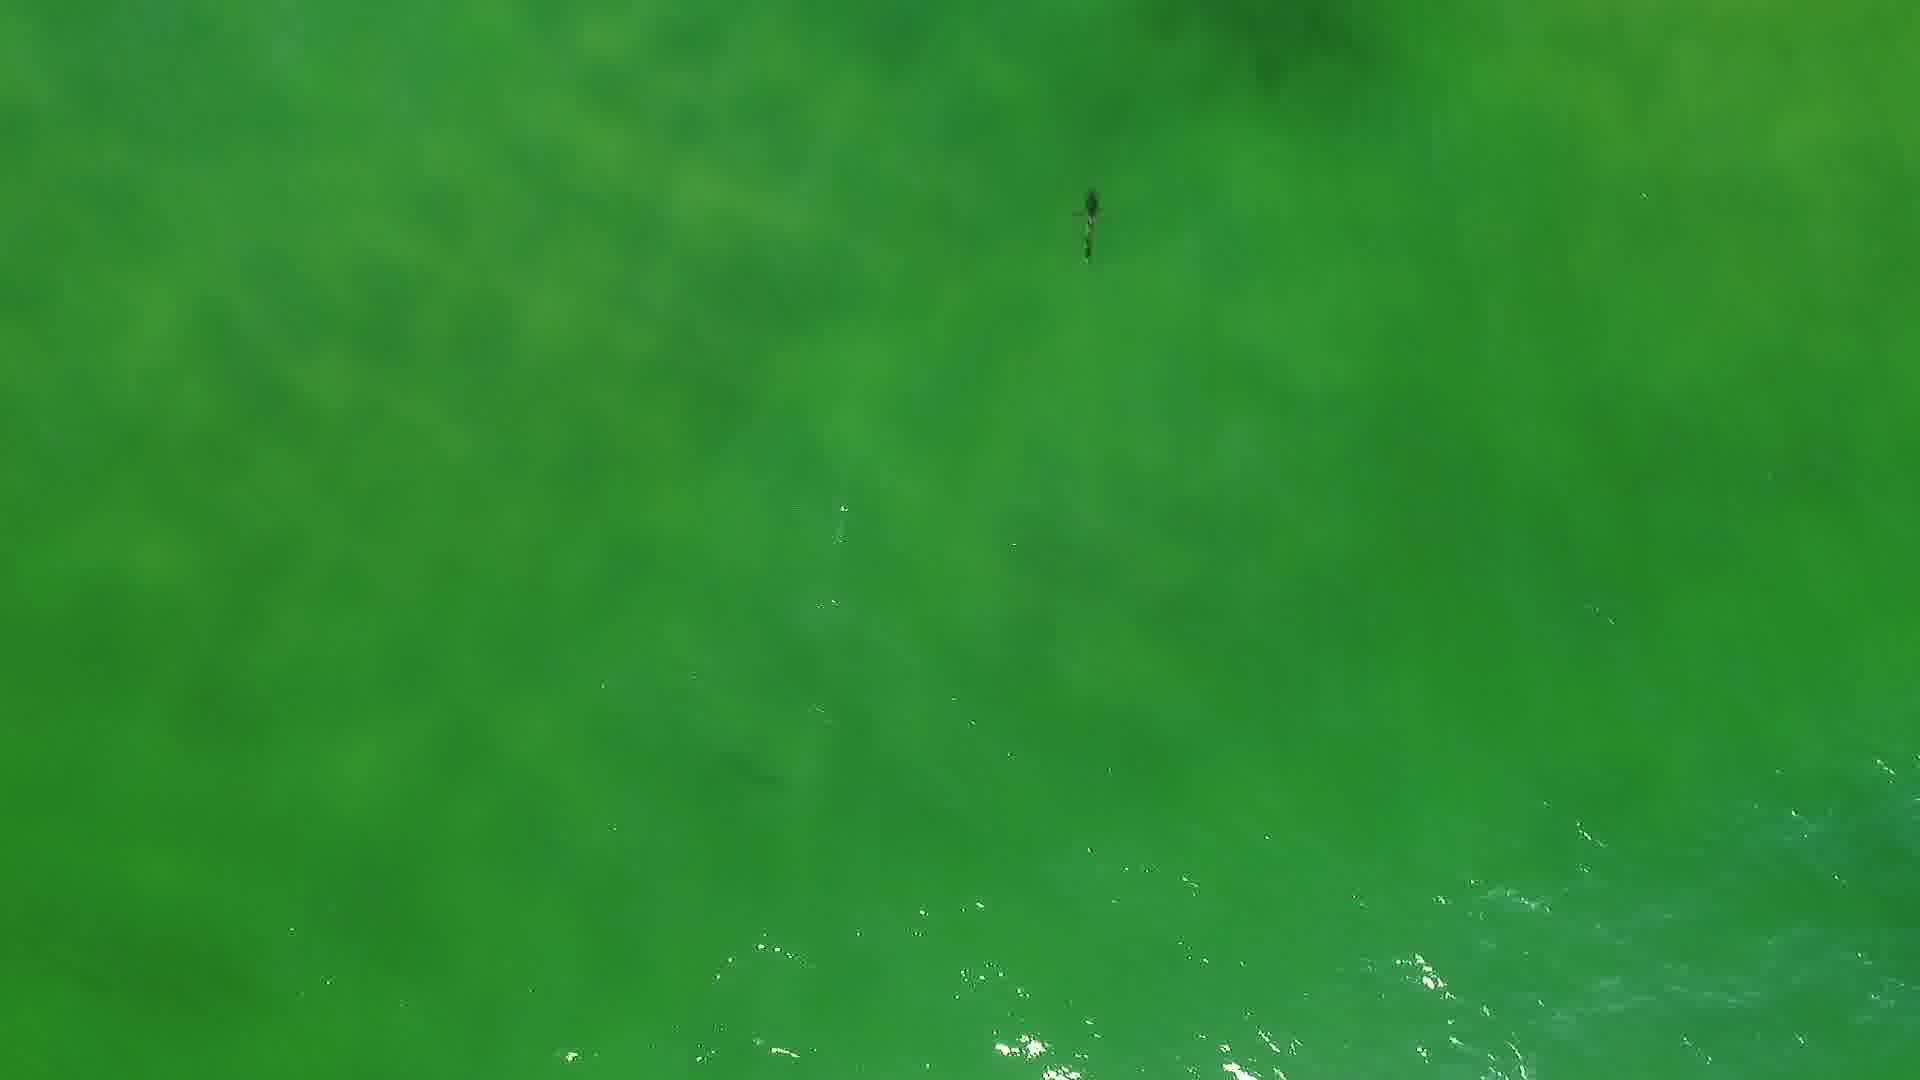shark: (1069, 185, 1112, 269)
